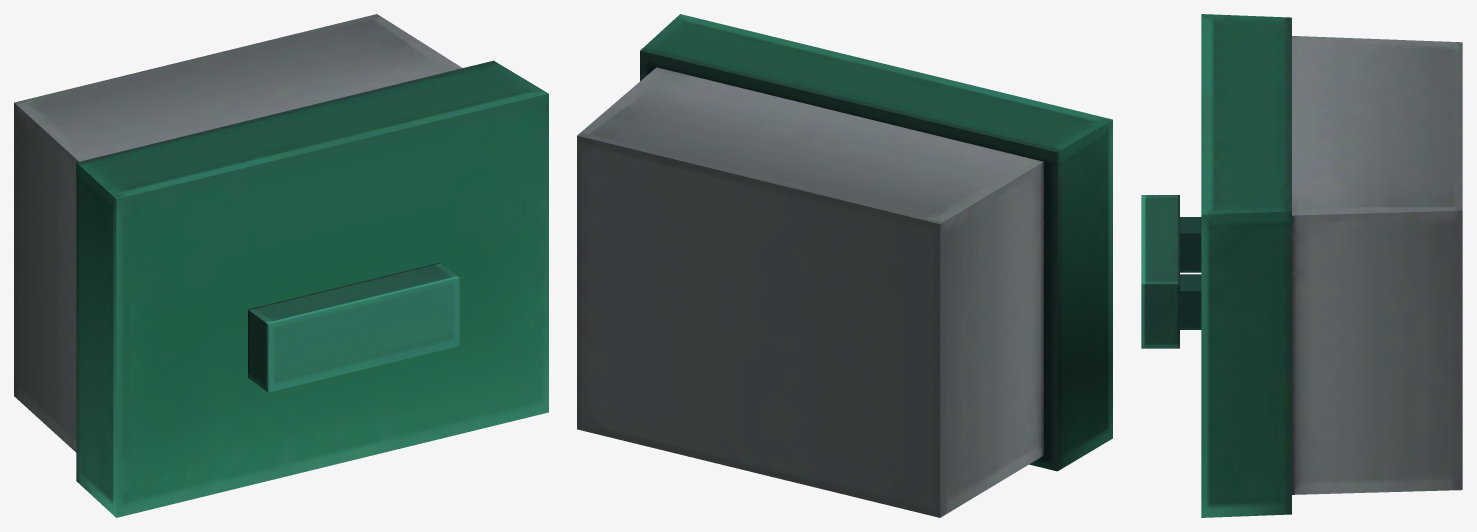
Rendered from weapon_medicine_b1c08e99__Medicine_bdf1353f_c1f257.obj.
The picture shows the model from 3 angles, left to right: view 1: azimuth 30°, elevation 25°; view 2: azimuth 150°, elevation 25°; view 3: azimuth 270°, elevation 25°; orthographic projection. The views are drawn at different scales.
Bounding box in the file's own units: 0.6589 × 0.4641 × 0.446.
Materials: 1 (1 with a texture image).
